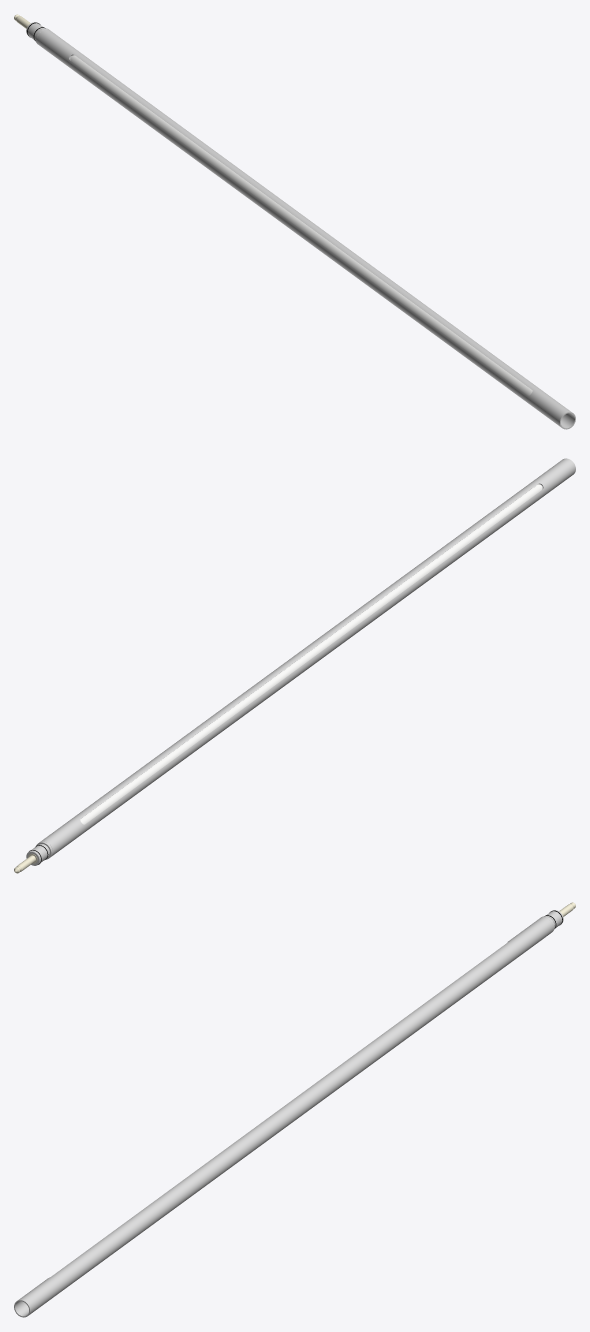
File: LightTube900.glb
The picture shows the model from 3 angles, top to bottom: view 1: azimuth 30°, elevation 25°; view 2: azimuth 150°, elevation 25°; view 3: azimuth 330°, elevation 25°; orthographic projection.
Visible parts, largest first — view 1: Body6.002; view 2: Body6.002; view 3: Body6.002.
Part boxes in pixels (x1,y1,x2,y2): Body6.002: (14,14,575,429); Body6.002: (14,458,575,873); Body6.002: (14,902,575,1317).
Size of the model in its own units: 0.16 by 0.1604 by 9.48.
